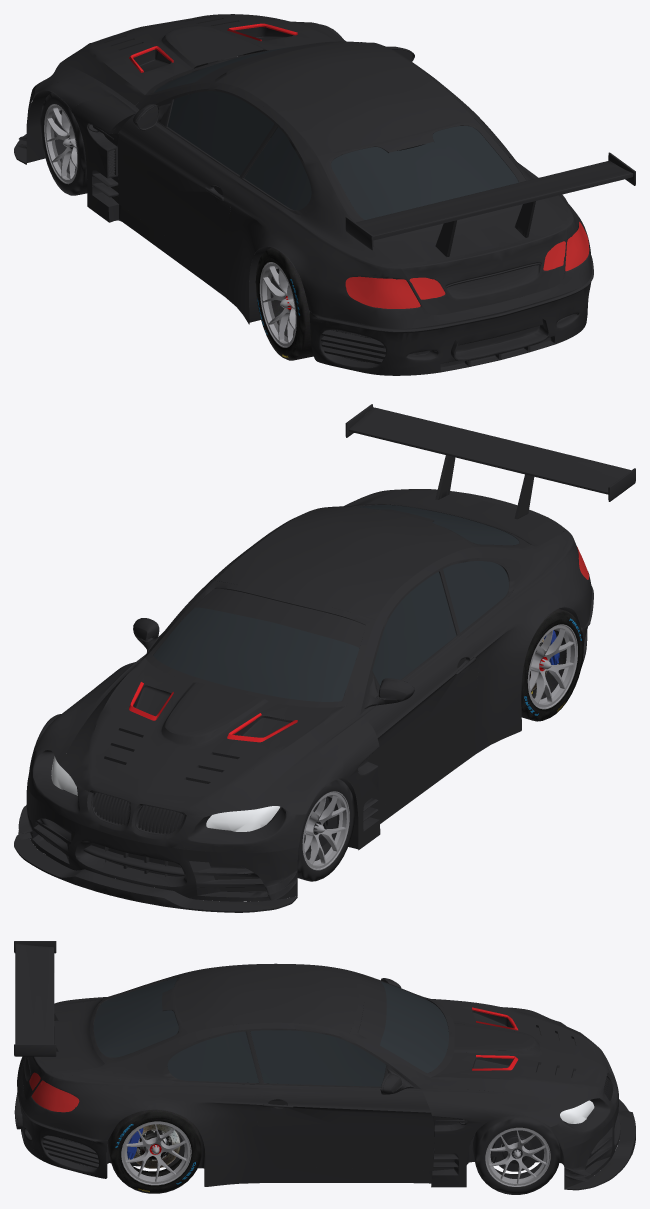
3 views of the same model, one above another, from view 1: azimuth 30°, elevation 25°; view 2: azimuth 150°, elevation 25°; view 3: azimuth 270°, elevation 25° (orthographic). The views are drawn at different scales.
Visible parts, largest first — view 1: body, wheel_rl, wheel_fl; view 2: body, wheel_rl, wheel_fl; view 3: body, wheel_rr, wheel_fr.
Part boxes in pixels (x1=…): body: x1=14, y1=14, x2=635, y2=375; wheel_rl: x1=255, y1=247, x2=313, y2=360; wheel_fl: x1=40, y1=92, x2=87, y2=195; body: x1=14, y1=404, x2=635, y2=912; wheel_rl: x1=521, y1=609, x2=583, y2=721; wheel_fl: x1=297, y1=779, x2=354, y2=881; body: x1=14, y1=941, x2=635, y2=1190; wheel_rr: x1=108, y1=1109, x2=202, y2=1193; wheel_fr: x1=472, y1=1116, x2=560, y2=1194.
Size of the model in its own units: 2.12 by 1.34 by 4.94.
Materials: 12 (5 with a texture image).
